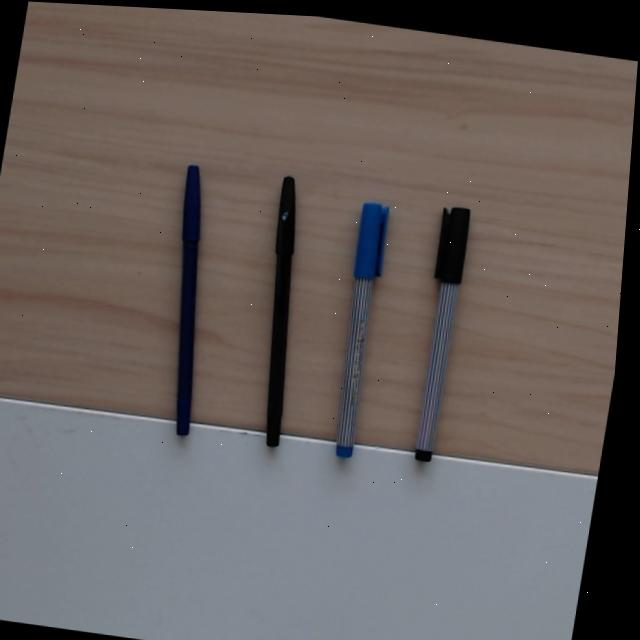Pulpen-Biru: (172, 164, 202, 434)
Pulpen-Garis-Biru: (327, 200, 388, 457)
Pulpen-Garis-Hitam: (408, 203, 470, 461)
Pulpen-Hitam: (260, 175, 298, 447)
